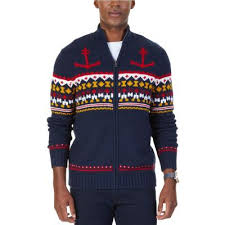S_cardigan sweater: (39, 32, 190, 212)
